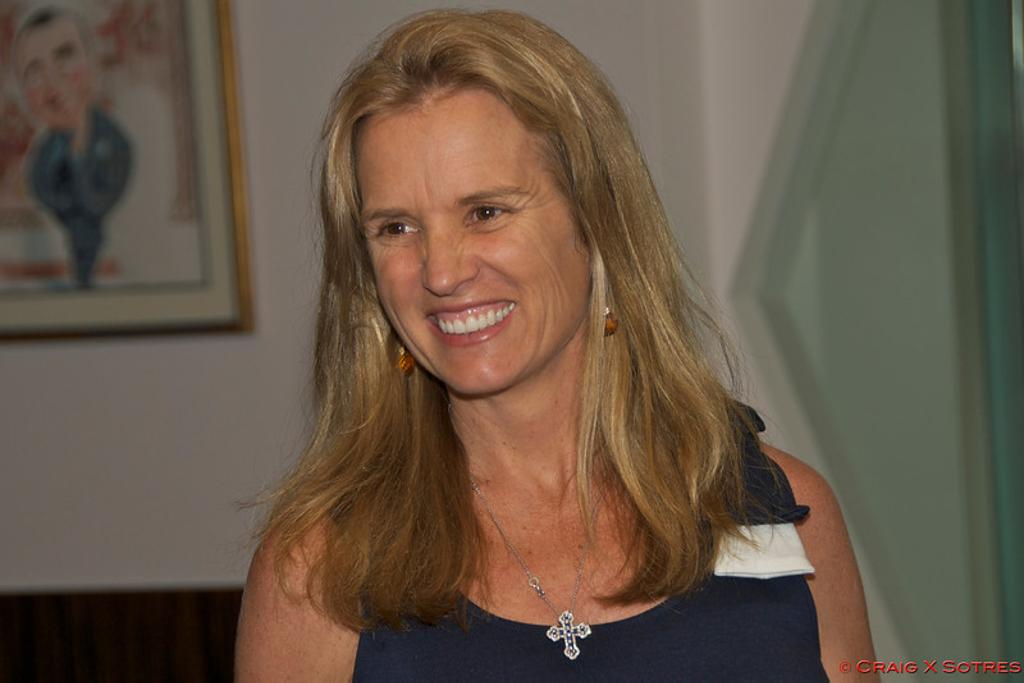face: (356, 88, 584, 390)
